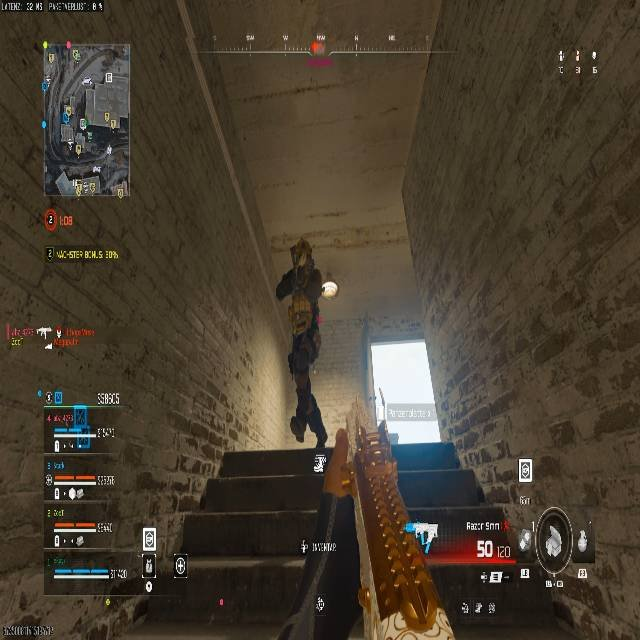head: (289, 238, 313, 269)
player: (273, 237, 337, 449)
